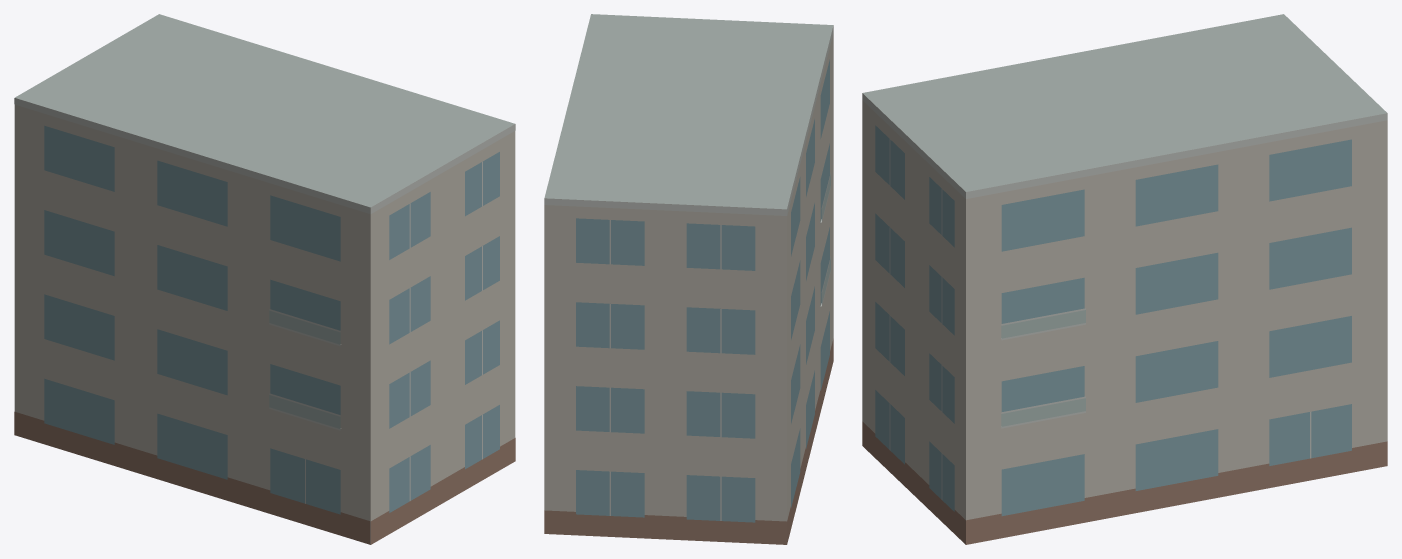
The model's file is residential-7434ca5b-7571-4ca7-b9cc-3ef5cb555a66.glb.
3 renders of one model, left to right at view 1: azimuth 30°, elevation 25°; view 2: azimuth 150°, elevation 25°; view 3: azimuth 270°, elevation 25°, orthographic. The views are drawn at different scales.
Parts seen in each view (by area): view 1: residential-7434ca5b-7571-4ca7-b9cc-3ef5cb555a66.tmp; view 2: residential-7434ca5b-7571-4ca7-b9cc-3ef5cb555a66.tmp; view 3: residential-7434ca5b-7571-4ca7-b9cc-3ef5cb555a66.tmp.
Part boxes in pixels (left/top/right/bottom): residential-7434ca5b-7571-4ca7-b9cc-3ef5cb555a66.tmp: left=14, top=14, right=515, bottom=544; residential-7434ca5b-7571-4ca7-b9cc-3ef5cb555a66.tmp: left=544, top=14, right=833, bottom=544; residential-7434ca5b-7571-4ca7-b9cc-3ef5cb555a66.tmp: left=862, top=14, right=1387, bottom=544.
Size of the model in its own units: 13.22 by 12.2 by 16.48.
